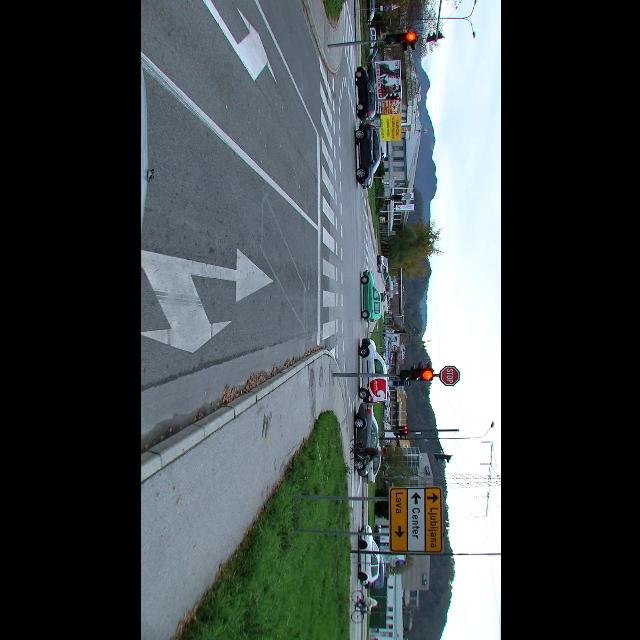Multi-inform: (387, 488, 443, 554)
Rectangle: (378, 6, 384, 12)
Round: (383, 3, 389, 11)
Stop: (438, 366, 459, 386)
Triangle: (389, 5, 398, 12)
